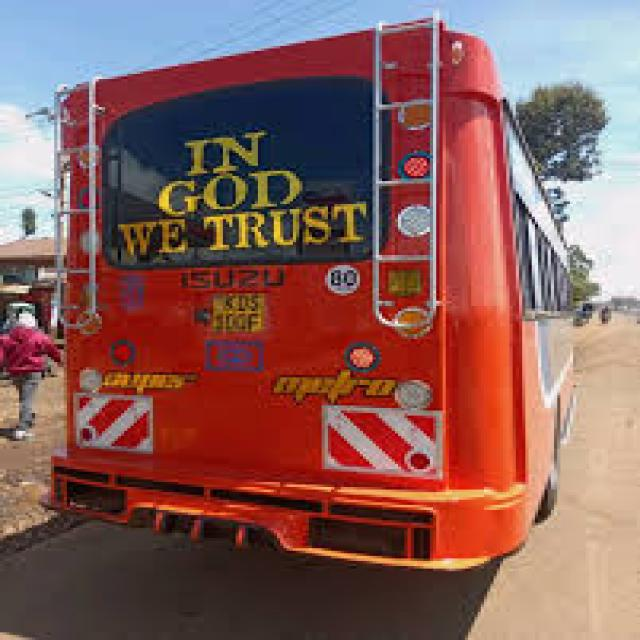bus: (39, 8, 630, 573)
